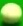white: (0, 0, 23, 26)
